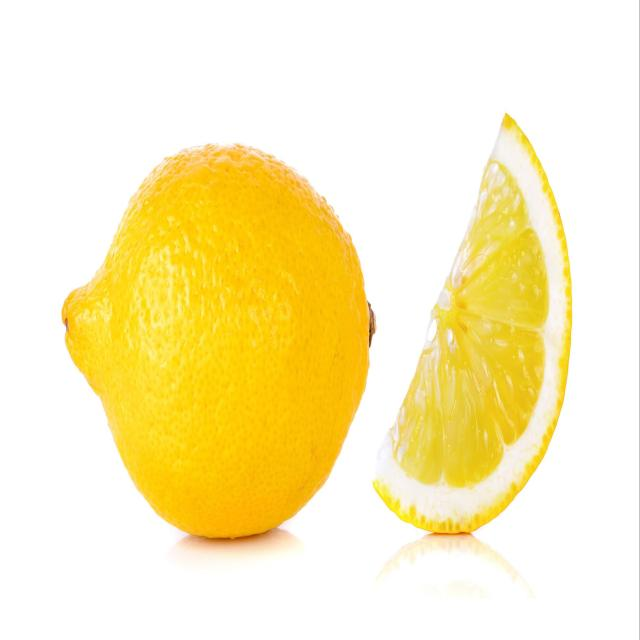lemon: (59, 130, 381, 555)
